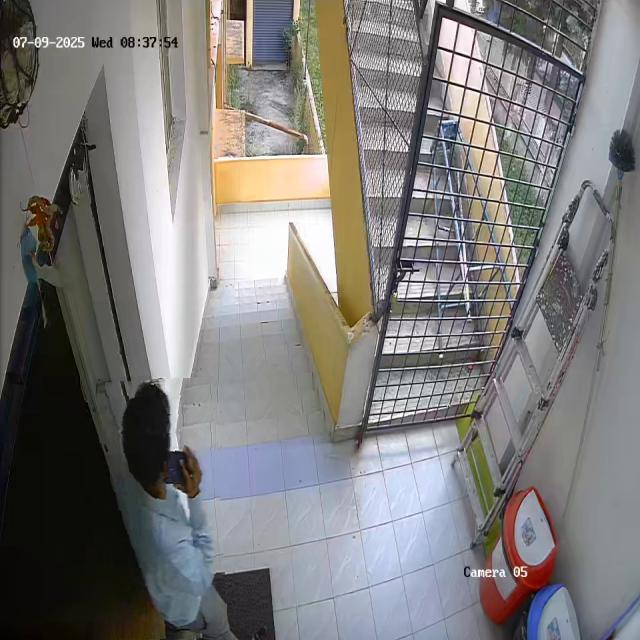person: (108, 377, 225, 640)
